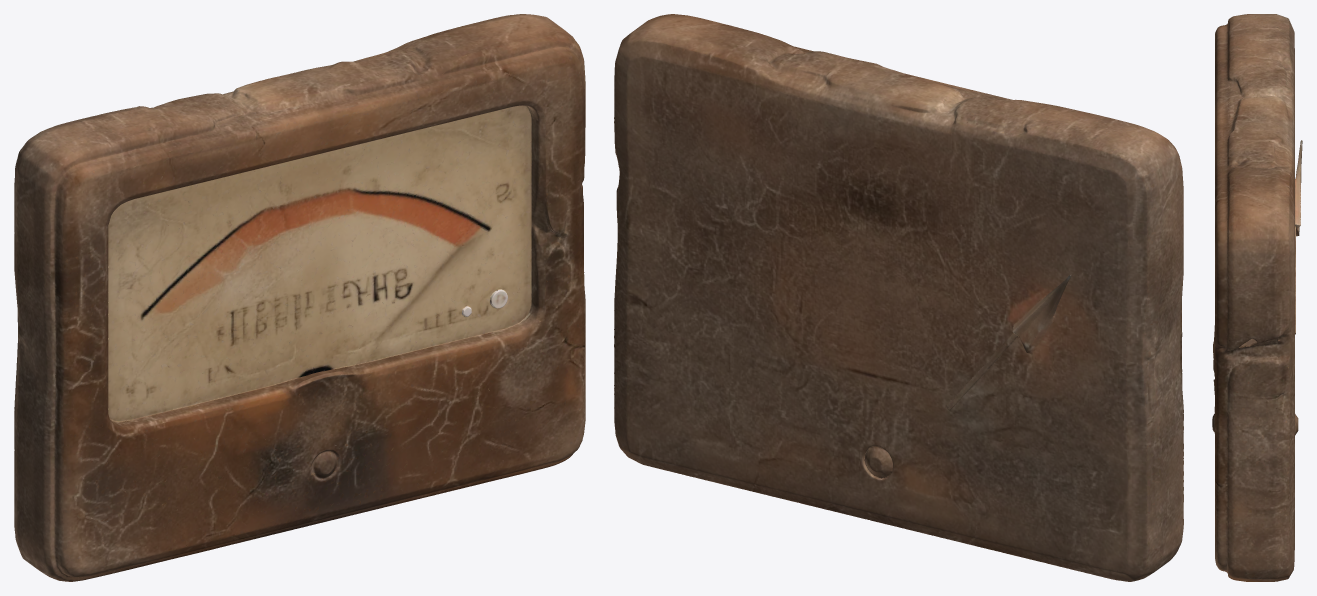
The model's file is dosimeter.glb.
The picture shows the model from 3 angles, left to right: view 1: azimuth 30°, elevation 25°; view 2: azimuth 150°, elevation 25°; view 3: azimuth 270°, elevation 25°; orthographic projection. The views are drawn at different scales.
Parts seen in each view (by area): view 1: world; view 2: world; view 3: world.
Part boxes in pixels (x1,y1,x2,y2): world: (14, 14, 585, 581); world: (614, 14, 1183, 581); world: (1212, 14, 1302, 581).
Bounding box in the file's own units: 1 × 0.7659 × 0.1702.
Materials: 1 (1 with a texture image).
